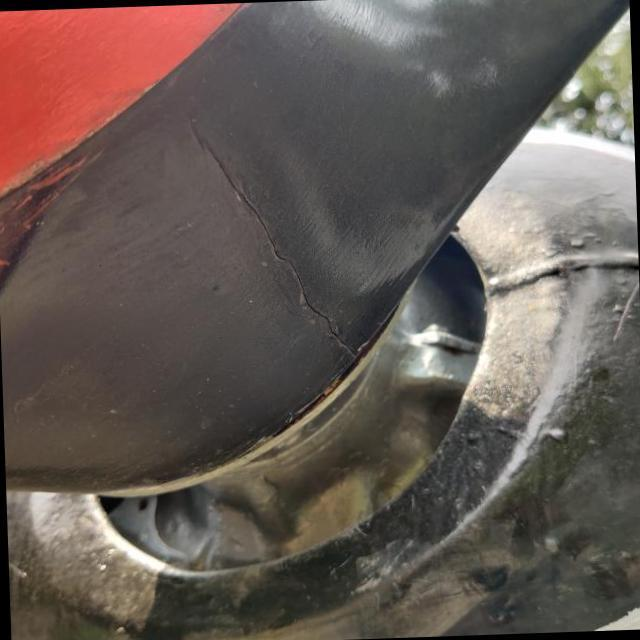Rupture: (157, 90, 376, 385)
